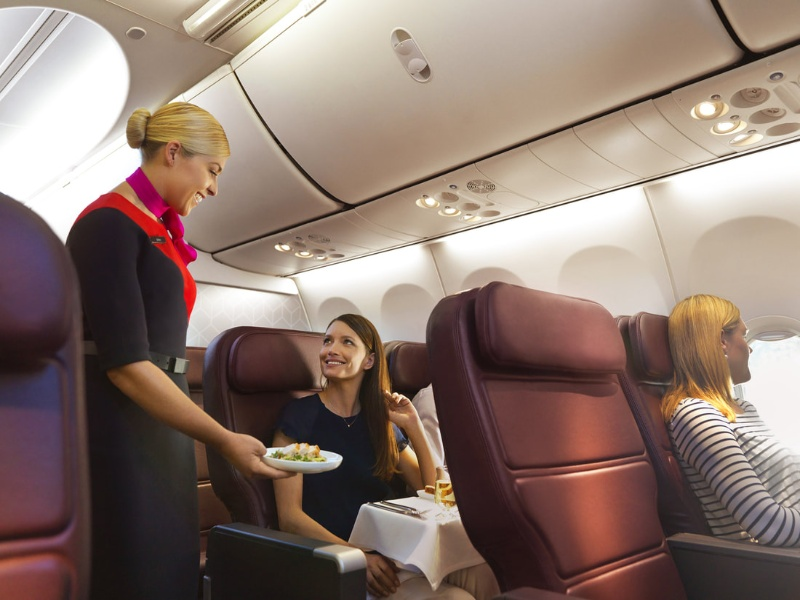close_bin: (241, 7, 742, 204), (62, 64, 348, 249)
